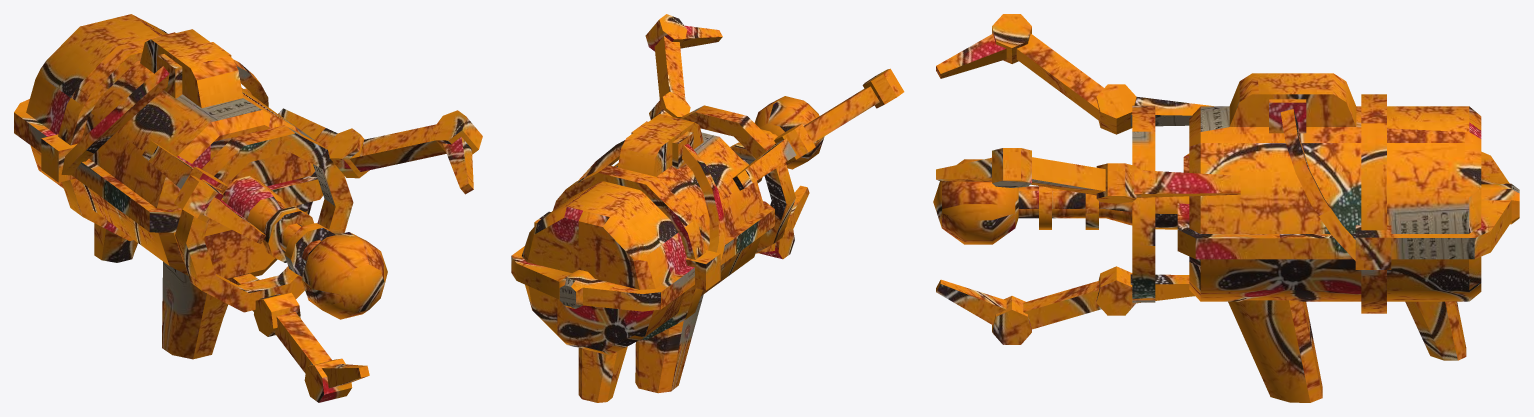
The model's file is Teslagun batik.fbx.
The picture shows the model from 3 angles, left to right: view 1: azimuth 30°, elevation 25°; view 2: azimuth 150°, elevation 25°; view 3: azimuth 270°, elevation 25°; orthographic projection. The views are drawn at different scales.
Parts seen in each view (by area): view 1: Teslagun; view 2: Teslagun; view 3: Teslagun.
Boxes of the visible parts, x1,y1,x2,y2 form: Teslagun: (14,14,482,402); Teslagun: (511,14,904,402); Teslagun: (933,14,1519,402).
Bounding box in the file's own units: 24.29 × 23.43 × 40.01.
Materials: 1 (1 with a texture image).
